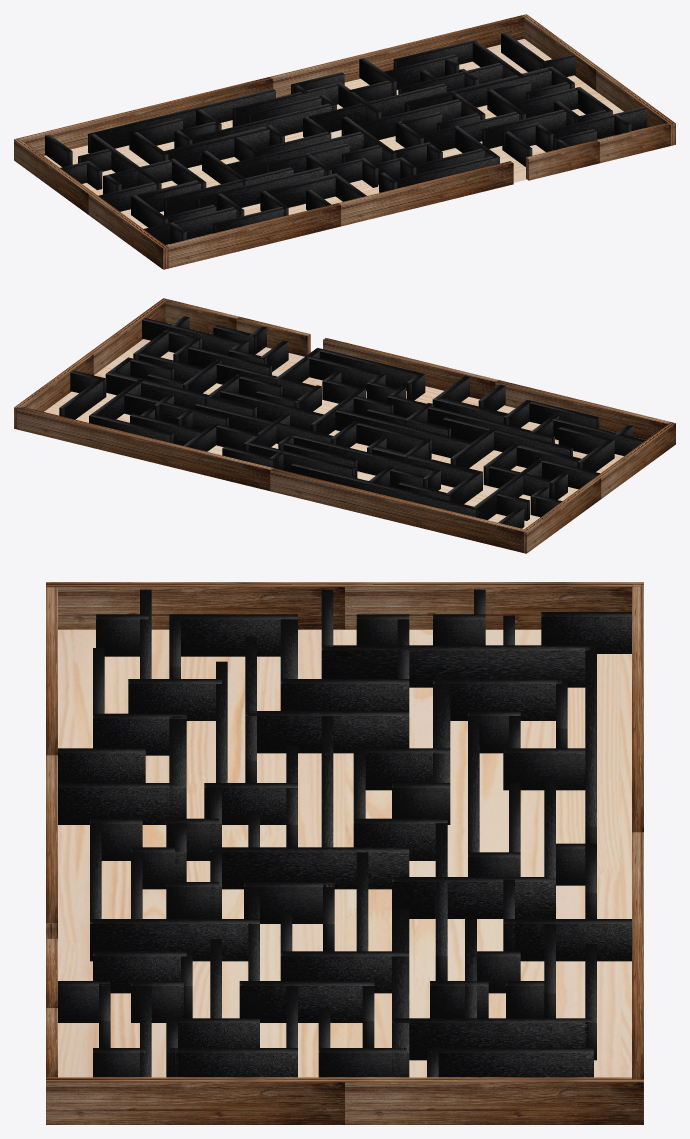
3 views of the same model, one above another, from view 1: azimuth 30°, elevation 25°; view 2: azimuth 150°, elevation 25°; view 3: azimuth 270°, elevation 25° (orthographic). The views are drawn at different scales.
Size of the model in its own units: 202 by 8 by 102.
3 materials, 3 textured.
